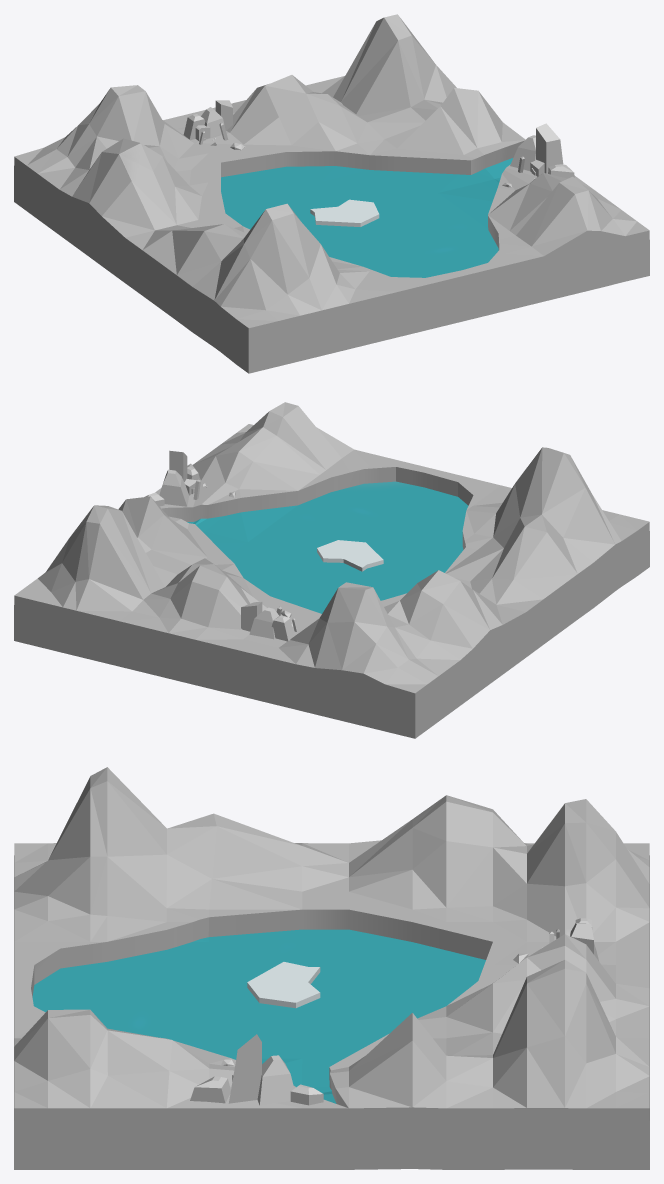
The model's file is environment-future.glb.
3 renders of one model, top to bottom at view 1: azimuth 30°, elevation 25°; view 2: azimuth 150°, elevation 25°; view 3: azimuth 270°, elevation 25°, orthographic. The views are drawn at different scales.
Visible parts, largest first — view 1: AE_Future, Single_ice_geo, pCube10, pCube9; view 2: AE_Future, Single_ice_geo, pCube9, pCube2; view 3: AE_Future, Single_ice_geo, pCube10, pCube9, pCube15.
Part boxes in pixels (<box>): AE_Future: <box>14,14,649,373</box>; Single_ice_geo: <box>310,199,379,226</box>; pCube10: <box>536,123,563,173</box>; pCube9: <box>510,135,536,170</box>; AE_Future: <box>14,402,649,738</box>; Single_ice_geo: <box>317,540,383,571</box>; pCube9: <box>159,469,189,506</box>; pCube2: <box>249,607,278,639</box>; AE_Future: <box>14,767,649,1169</box>; Single_ice_geo: <box>247,962,320,1008</box>; pCube10: <box>228,1034,261,1103</box>; pCube9: <box>257,1055,294,1105</box>; pCube15: <box>190,1076,230,1103</box>.
Size of the model in its own units: 51.72 by 15.65 by 52.42.
Materials: 8 (8 with a texture image).
